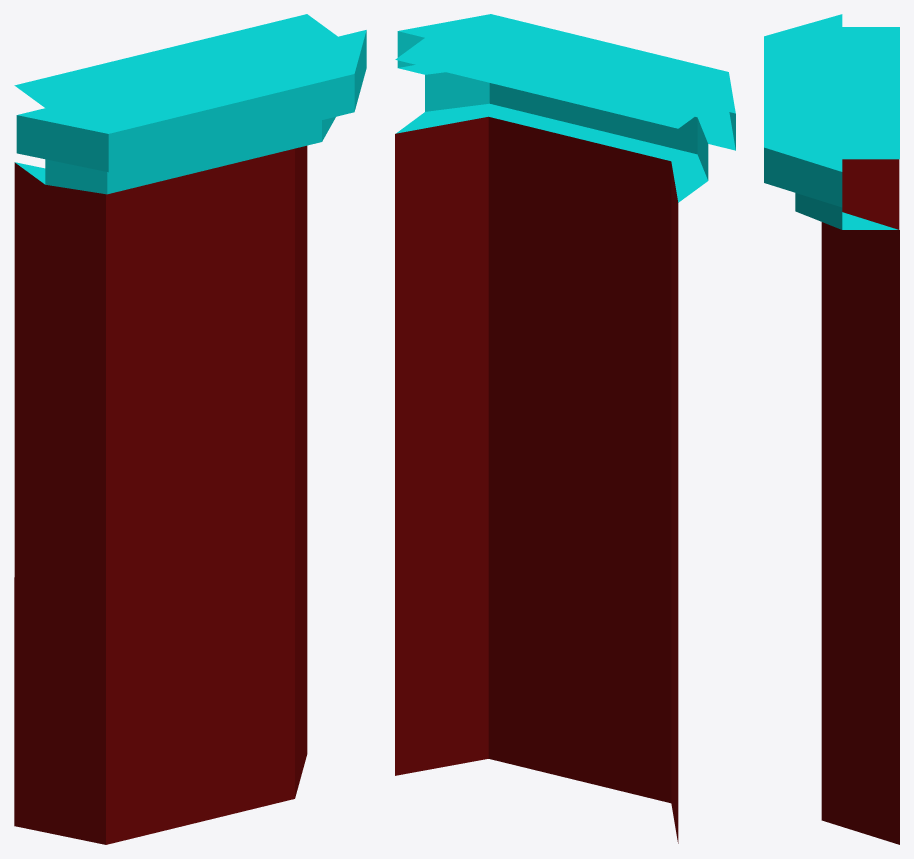
The model's file is Wall_Column.fbx.
The picture shows the model from 3 angles, left to right: view 1: azimuth 30°, elevation 25°; view 2: azimuth 150°, elevation 25°; view 3: azimuth 270°, elevation 25°; orthographic projection. The views are drawn at different scales.
Visible parts, largest first — view 1: Build_1_Column; view 2: Build_1_Column; view 3: Build_1_Column.
Boxes of the visible parts, x1=… form: Build_1_Column: x1=14, y1=14, x2=366, y2=844; Build_1_Column: x1=395, y1=14, x2=735, y2=843; Build_1_Column: x1=764, y1=14, x2=899, y2=844.
Size of the model in its own units: 143 by 52 by 290.
